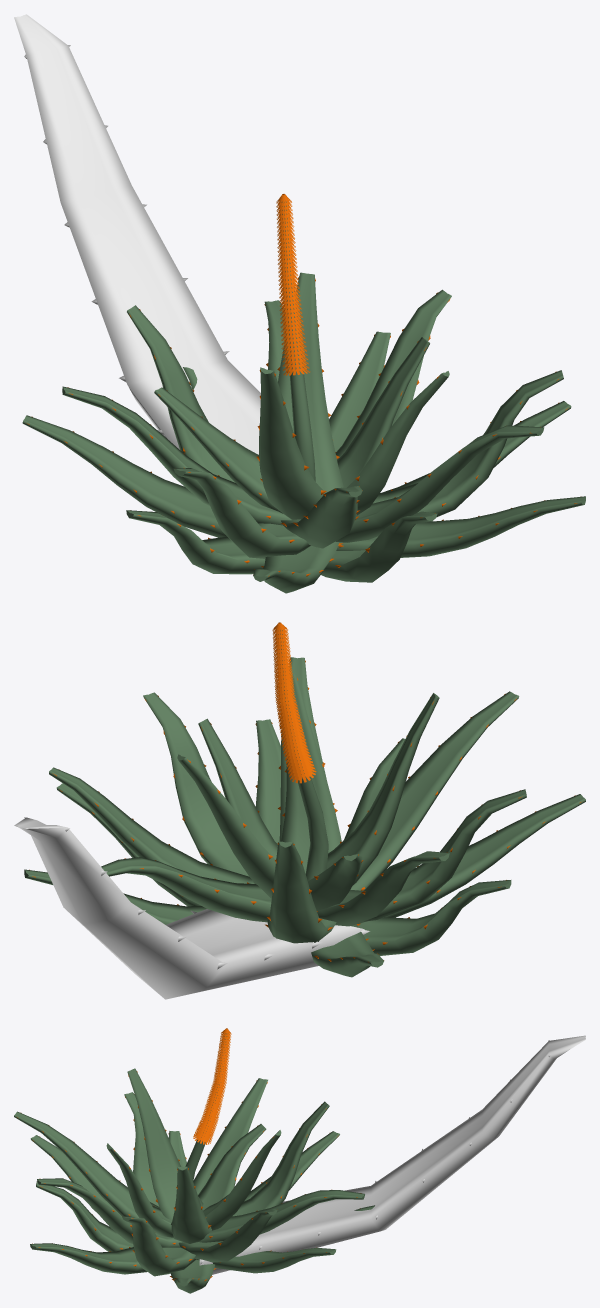
The model's file is BitterAloe.fbx.
3 views of the same model, one above another, from view 1: azimuth 30°, elevation 25°; view 2: azimuth 150°, elevation 25°; view 3: azimuth 270°, elevation 25° (orthographic). The views are drawn at different scales.
Parts seen in each view (by area): view 1: AloePlantMesh, Stem_backup; view 2: AloePlantMesh, Stem_backup; view 3: AloePlantMesh, Stem_backup.
Part boxes in pixels (left/top/right/bottom): AloePlantMesh: left=22, top=194, right=585, bottom=593; Stem_backup: left=14, top=14, right=260, bottom=454; AloePlantMesh: left=24, top=622, right=585, bottom=977; Stem_backup: left=14, top=817, right=364, bottom=999; AloePlantMesh: left=14, top=1028, right=374, bottom=1293; Stem_backup: left=199, top=1035, right=585, bottom=1274.
Size of the model in its own units: 143 by 111 by 231.
